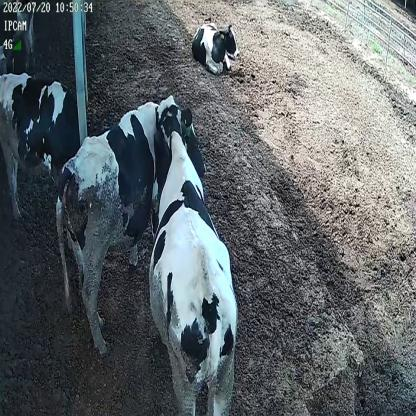cow: (56, 96, 207, 354), (146, 94, 240, 413), (0, 71, 82, 216), (190, 20, 242, 76)
